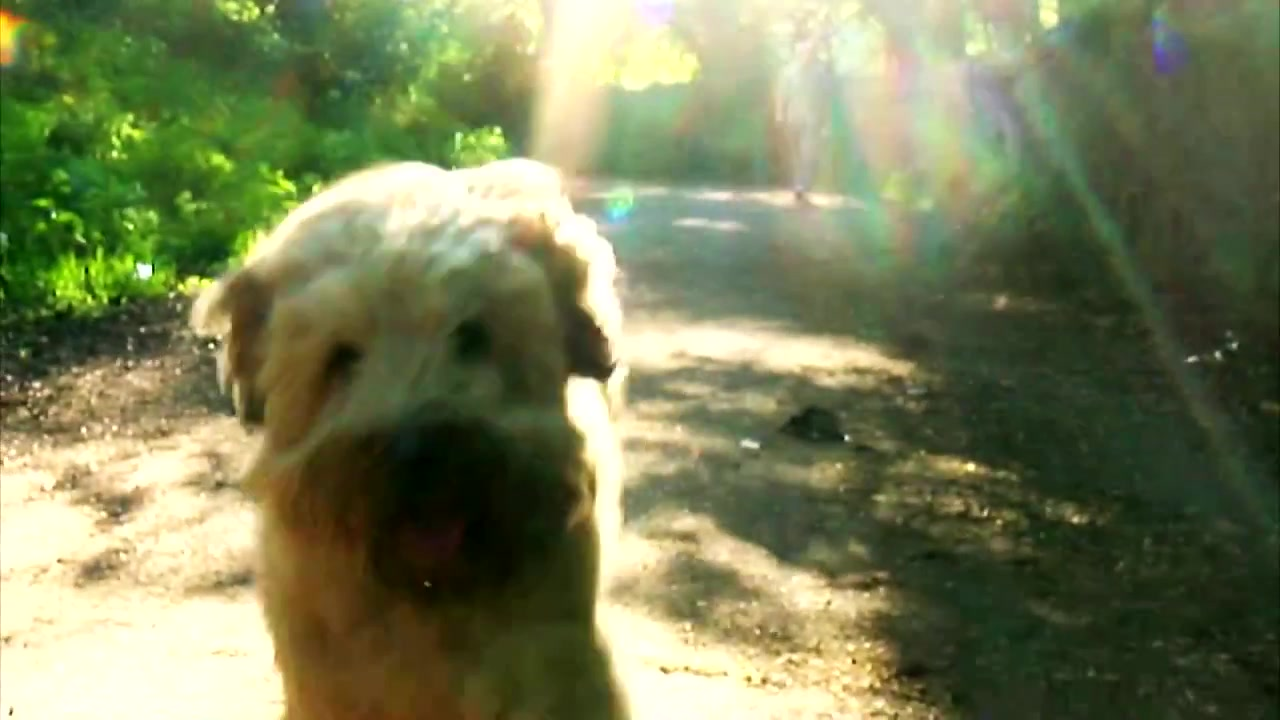dog: (190, 160, 638, 720)
